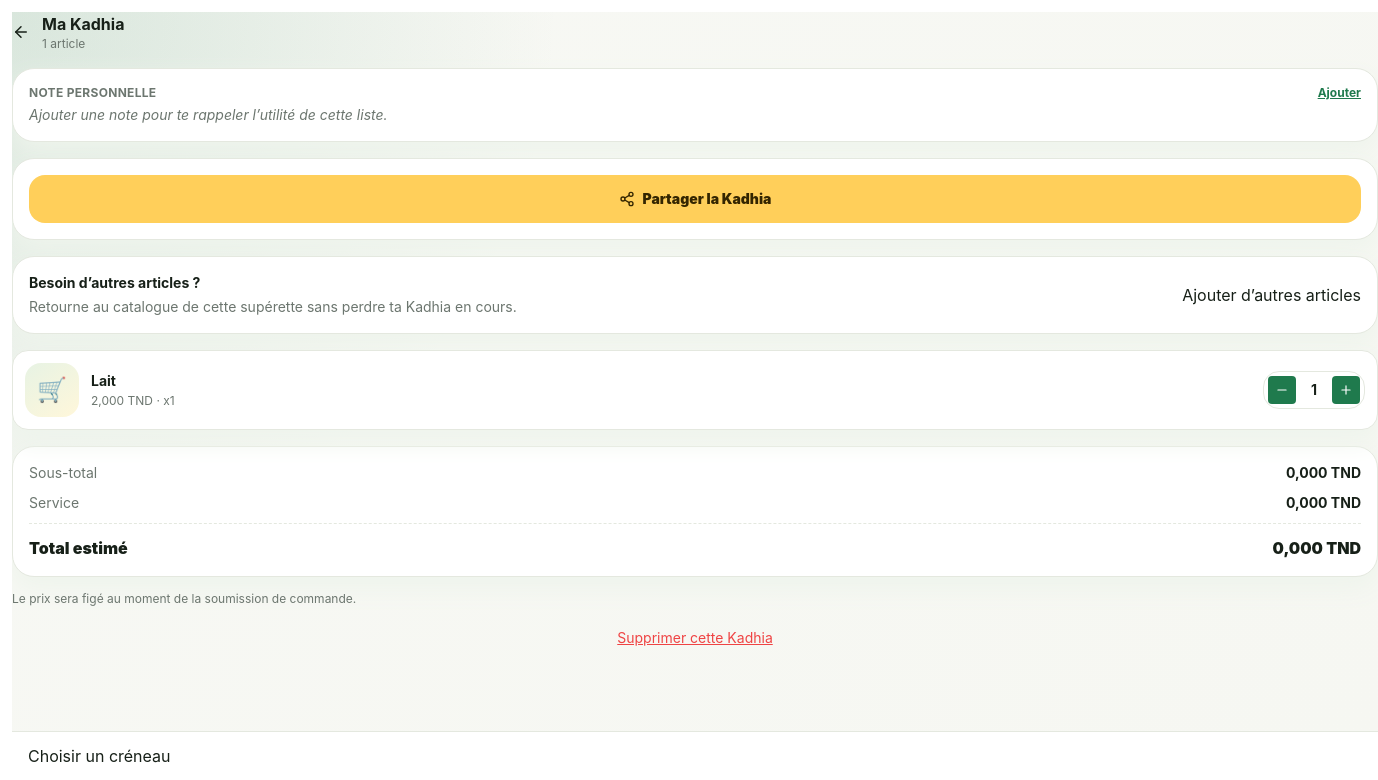
Test: KadhiaDetailPage — note personnelle › affiche un message d'erreur quand la suppression échoue
This screenshot has width=1378, height=780.
Click the button "Supprimer cette Kadhia" at (695, 638), box x1=617 y1=628 x2=773 y2=648
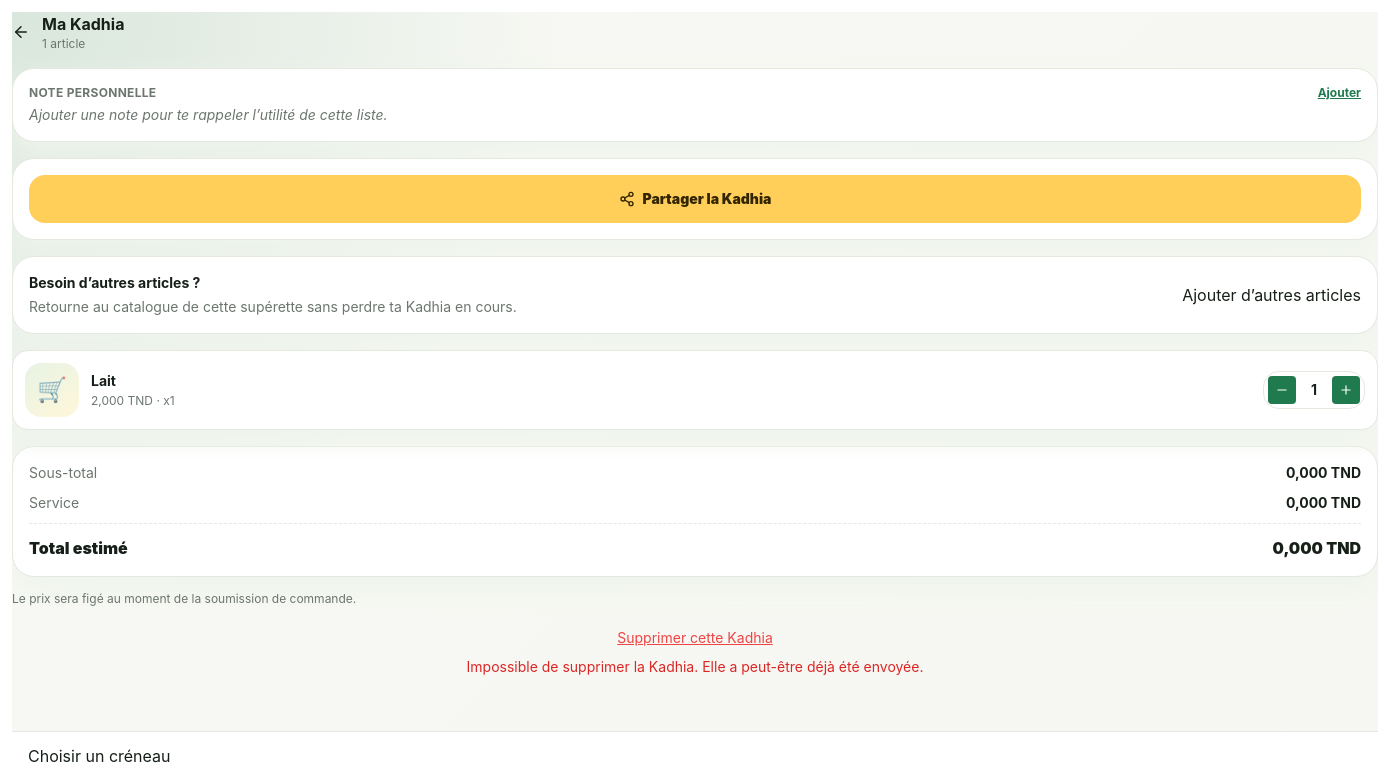
Check: the text "Impossible de supprimer" is shown, box x1=466 y1=658 x2=923 y2=674
